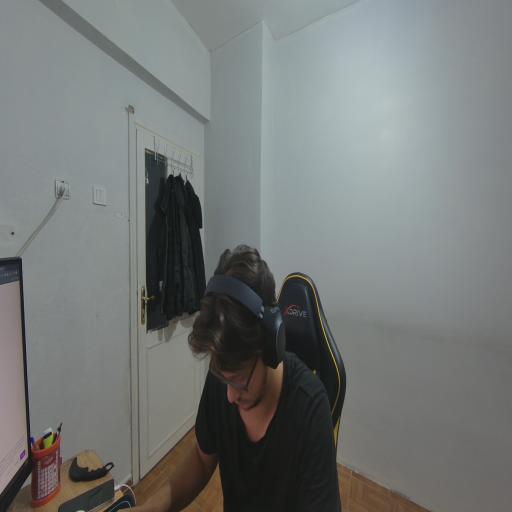cuma-face-v2: (192, 237, 295, 418)
